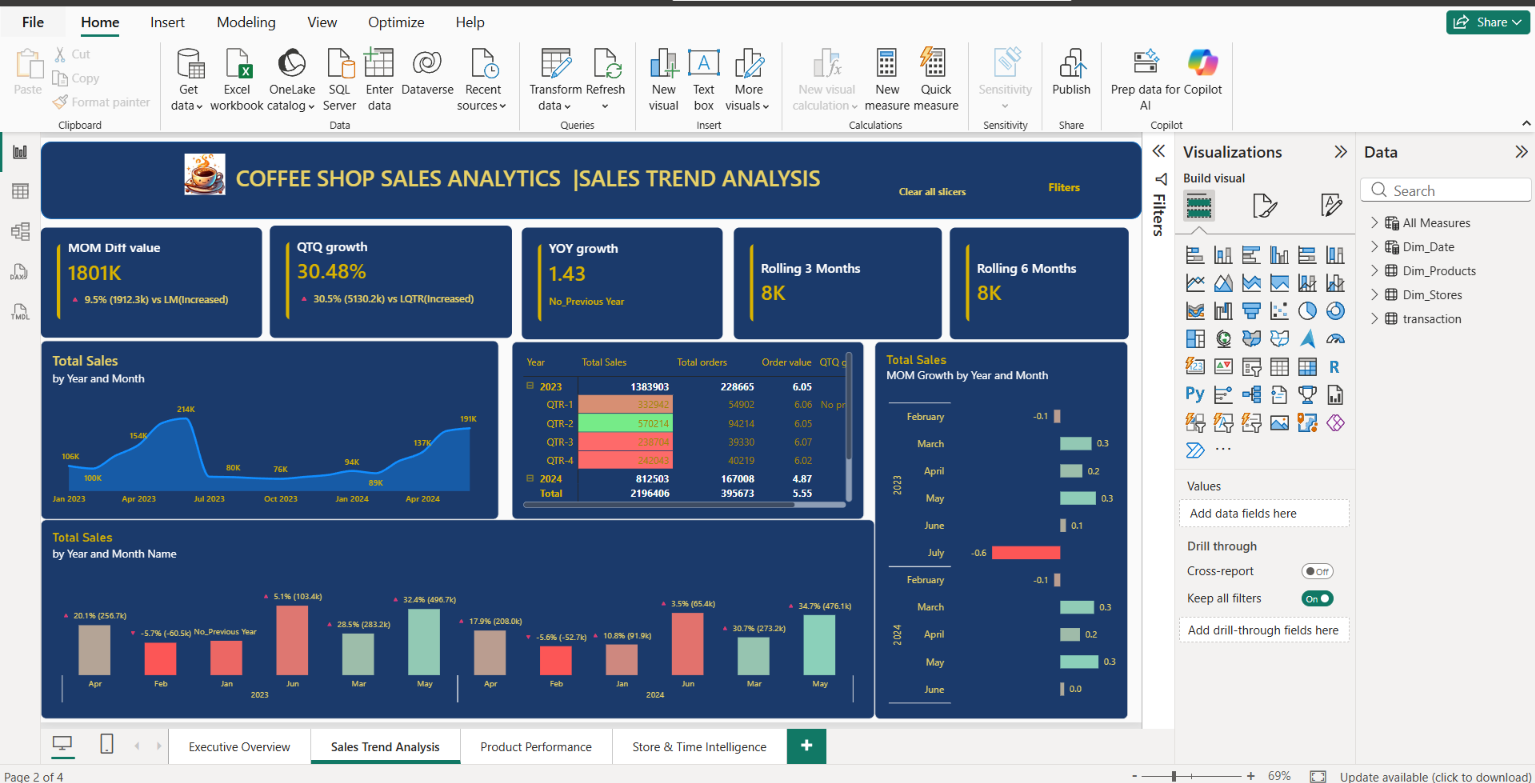

This screenshot's page, from the dashboard's own definition file:
{"tool":"powerbi","page":{"name":"Sales Trend Analysis","canvas":[1600,850],"ordinal":1},"visuals":[{"type":"cardVisual","fields":{"Data":["All Measures.Rolling 6 Months"]},"box":[1321.2,130.8,260.2,162.8],"z":0},{"type":"shape","box":[0,5.8,1600.3,112.5],"z":2000},{"type":"textbox","box":[282.8,37,874.9,47.4],"z":3000},{"type":"cardVisual","fields":{"Data":["All Measures.YOY growth"]},"box":[699.1,130.8,292.2,162.8],"z":4000},{"type":"cardVisual","fields":{"Data":["All Measures.MOM Diff value"]},"box":[0,130.8,321.2,159.9],"z":5000},{"type":"cardVisual","fields":{"Data":["All Measures.QTQ growth"]},"box":[332.8,127.9,352.3,162.8],"z":6000},{"type":"lineChart","fields":{"Category":["Dim_Date.Date.Variation.Date Hierarchy.Year","Dim_Date.Date.Variation.Date Hierarchy.Month"],"Y":["All Measures.Total Sales"]},"box":[0,295.1,665.8,259.9],"z":7000},{"type":"pivotTable","fields":{"Rows":["Dim_Date.Year","Dim_Date.QTR name"],"Values":["All Measures.Total Sales","All Measures.Total orders","All Measures.Order value","All Measures.QTQ growth"]},"box":[684.6,296.5,511.6,258.7],"z":8000},{"type":"clusteredColumnChart","fields":{"Category":["Dim_Date.Year","Dim_Date.Month Name"],"Y":["All Measures.Total Sales"]},"box":[0,555.2,1212.2,289.2],"z":9000},{"type":"image","box":[204.4,23.4,67.2,59.9],"z":10000},{"type":"actionButton","box":[1437.6,53,100,40],"z":11000},{"type":"clusteredBarChart","title":"Total Sales","fields":{"Category":["Dim_Date.Date.Variation.Date Hierarchy.Year","Dim_Date.Date.Variation.Date Hierarchy.Month"],"Y":["All Measures.MOM Growth"]},"box":[1212.2,296.5,368.3,548.5],"z":16000},{"type":"actionButton","box":[1196.2,53.8,200,50],"z":16001},{"type":"cardVisual","fields":{"Data":["All Measures.Rolling 3 Months"]},"box":[1007.3,130.8,302.3,162.8],"z":16002}]}

Visuals, with their boxes on the page's 1600x850 design canvas (x1, y1, x2, y2). These are canvas units, not pixel positions in the 1535x783 screenshot, which may show the page scaled, cropped or inside an application window:
cardVisual - All Measures.Rolling 6 Months: 1321,131,1581,294
shape: 0,6,1600,118
textbox: 283,37,1158,84
cardVisual - All Measures.YOY growth: 699,131,991,294
cardVisual - All Measures.MOM Diff value: 0,131,321,291
cardVisual - All Measures.QTQ growth: 333,128,685,291
lineChart - Dim_Date.Date.Variation.Date Hierarchy.Year x Dim_Date.Date.Variation.Date Hierarchy.Month: 0,295,666,555
pivotTable - Dim_Date.Year x Dim_Date.QTR name: 685,296,1196,555
clusteredColumnChart - Dim_Date.Year x Dim_Date.Month Name: 0,555,1212,844
image: 204,23,272,83
actionButton: 1438,53,1538,93
"Total Sales" clusteredBarChart: 1212,296,1580,845
actionButton: 1196,54,1396,104
cardVisual - All Measures.Rolling 3 Months: 1007,131,1310,294
